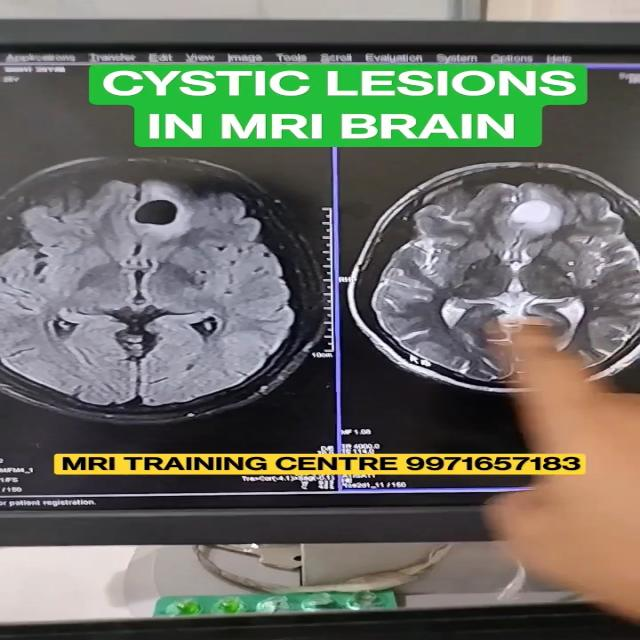tumor: (96, 194, 206, 244), (487, 187, 567, 230)
